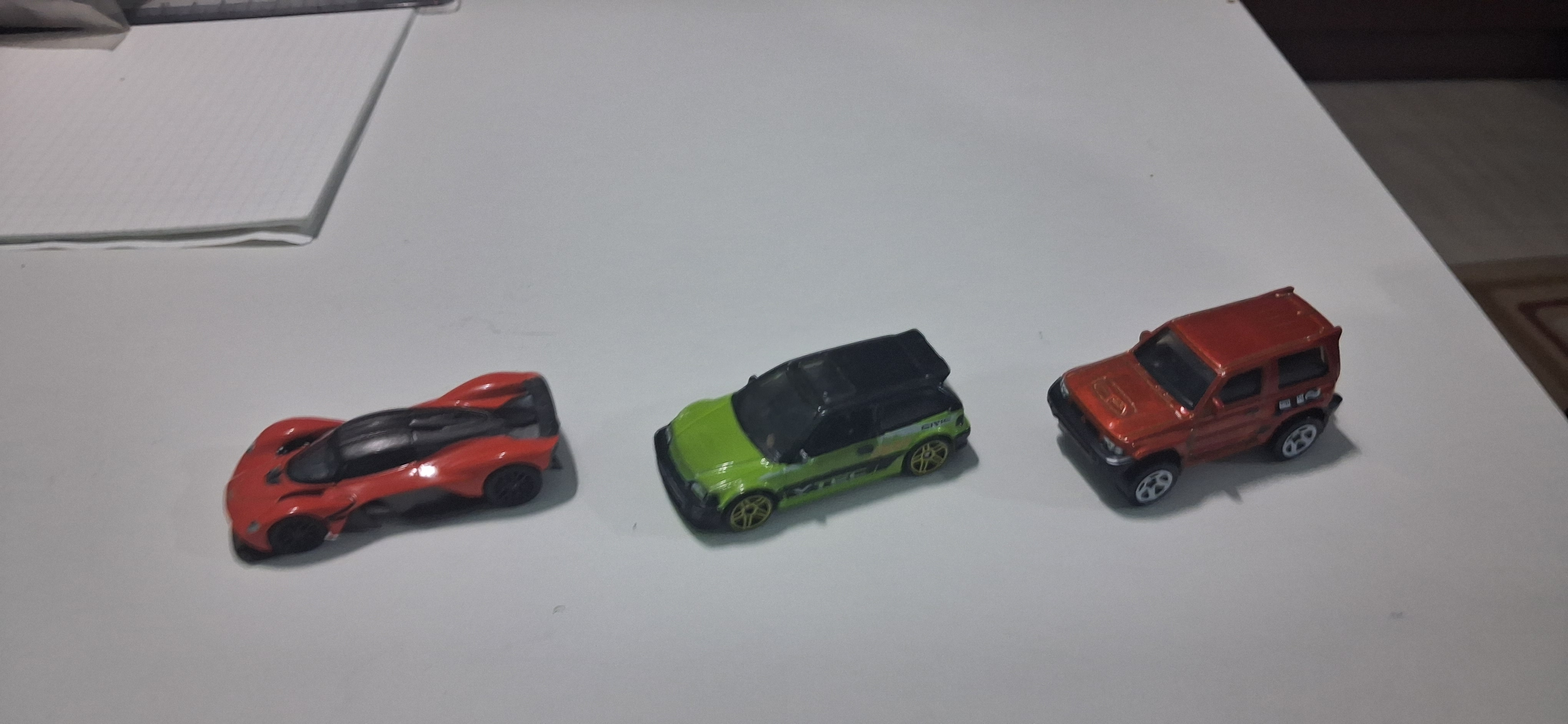Aston_Martin_Valkyrie: (211, 347, 582, 563)
Honda_Civic: (615, 291, 991, 584)
Mitsubishi_Pajero_Evolution: (1053, 263, 1374, 549)
